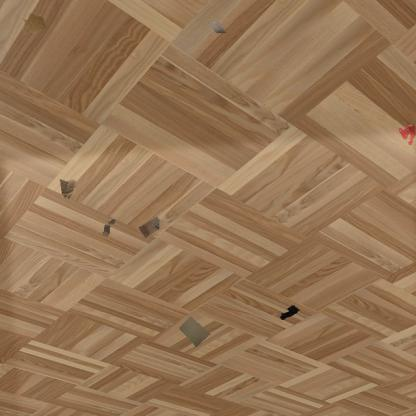dirty: (177, 314, 211, 349), (137, 214, 163, 240), (207, 18, 229, 36), (58, 177, 76, 199), (100, 217, 118, 239), (278, 305, 300, 320)
liquid: (21, 12, 47, 36), (397, 123, 415, 145)
